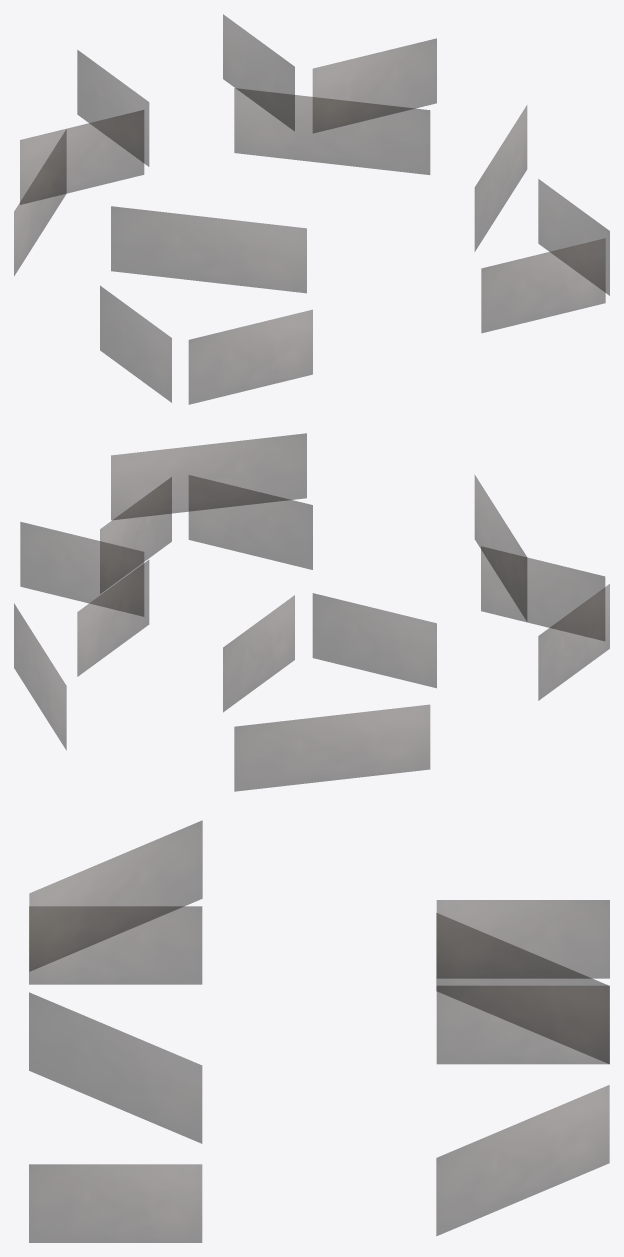
Rendered from oct_3s_glass.DAE.
The picture shows the model from 3 angles, top to bottom: view 1: azimuth 30°, elevation 25°; view 2: azimuth 150°, elevation 25°; view 3: azimuth 270°, elevation 25°; orthographic projection. The views are drawn at different scales.
Visible parts, largest first — view 1: building_wallWindowGlass05; view 2: building_wallWindowGlass05; view 3: building_wallWindowGlass05.
Part boxes in pixels (box(x1,y1,x2,y2)): building_wallWindowGlass05: box(14, 14, 609, 404); building_wallWindowGlass05: box(14, 433, 609, 791); building_wallWindowGlass05: box(29, 820, 609, 1242).
Bounding box in the file's own units: 41.37 × 12.78 × 40.37.
